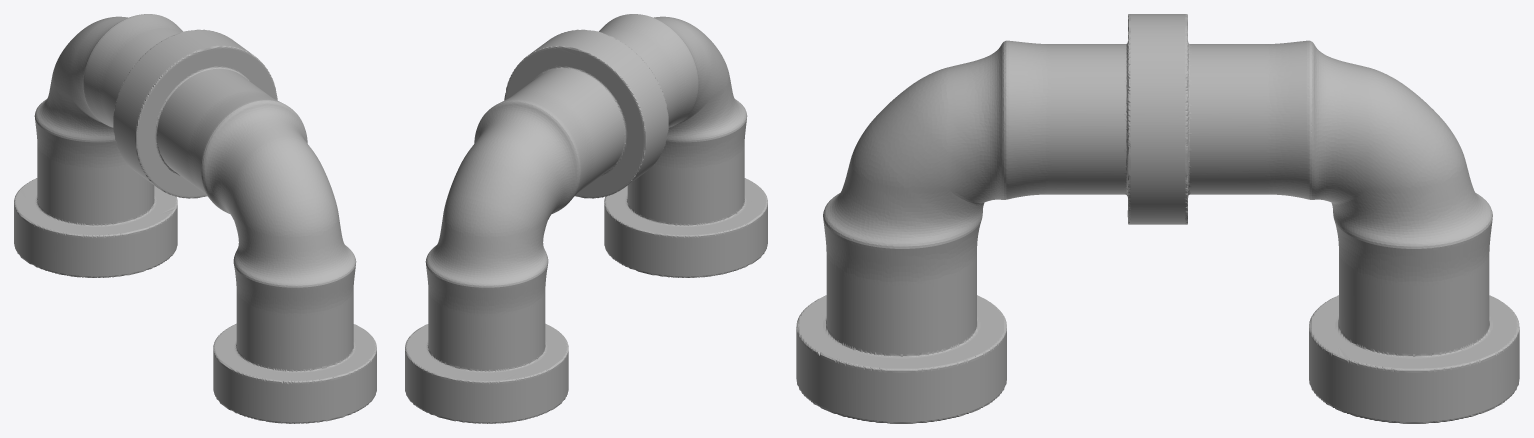
Rendered from Pipe5.fbx.
3 views of the same model, side by side, from view 1: azimuth 30°, elevation 25°; view 2: azimuth 150°, elevation 25°; view 3: azimuth 270°, elevation 25° (orthographic). The views are drawn at different scales.
Visible parts, largest first — view 1: Pipe5; view 2: Pipe5; view 3: Pipe5.
Boxes of the visible parts, x1,y1,x2,y2 form: Pipe5: (14,14,376,423); Pipe5: (405,14,767,423); Pipe5: (796,14,1519,423).
Bounding box in the file's own units: 199 × 371 × 684.
